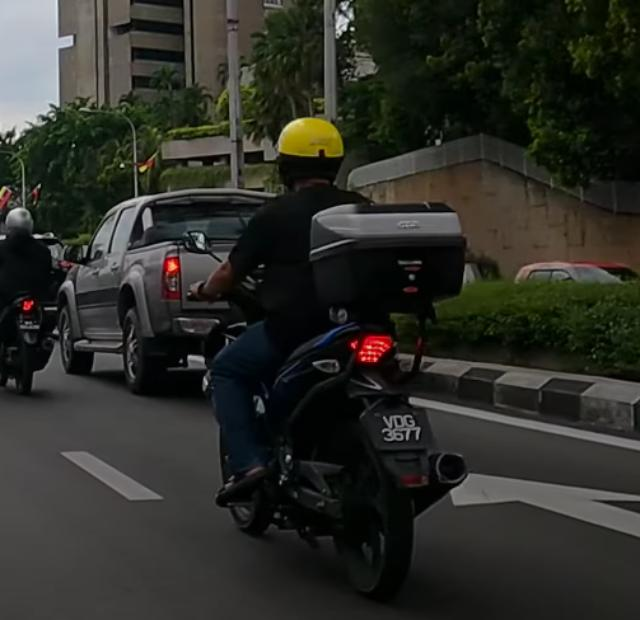License_Plate: (365, 414, 436, 450), (20, 317, 41, 334)
motorcycle: (184, 200, 470, 603), (2, 234, 75, 396)
